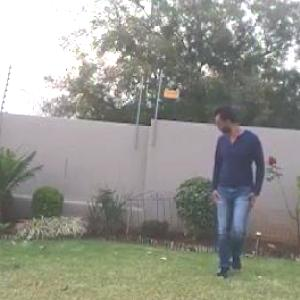follow: (207, 91, 268, 291)
